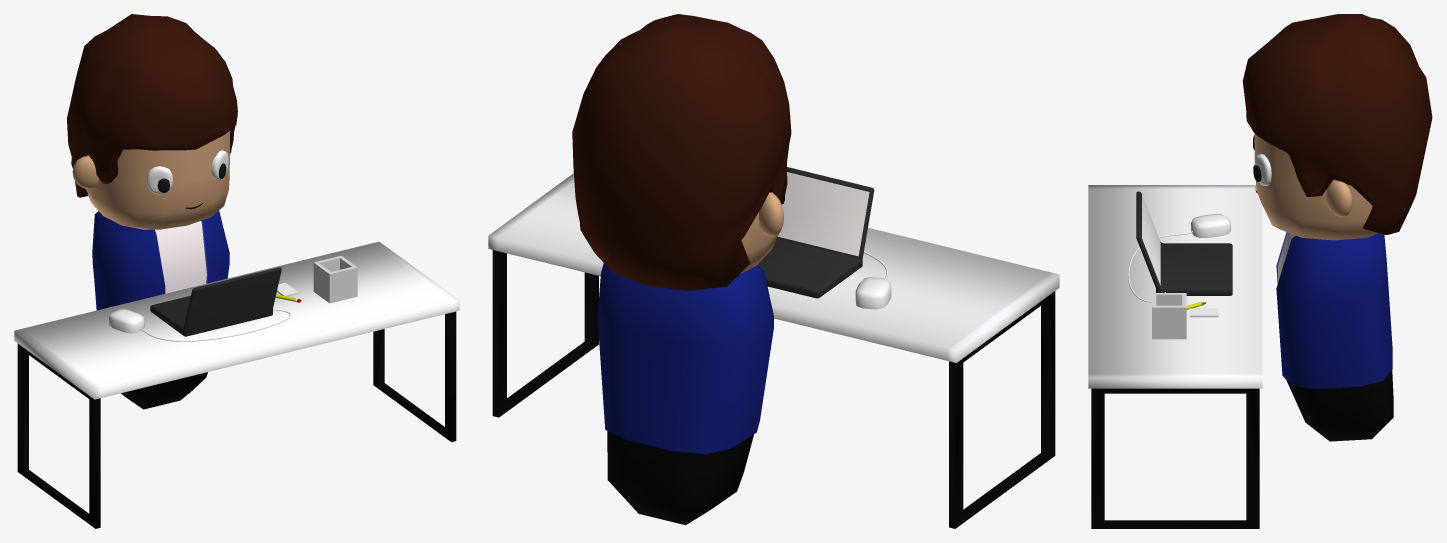
The model's file is Guy.fbx.
3 renders of one model, left to right at view 1: azimuth 30°, elevation 25°; view 2: azimuth 150°, elevation 25°; view 3: azimuth 270°, elevation 25°, orthographic. The views are drawn at different scales.
Parts seen in each view (by area): view 1: Body, Desk, Laptop, PenHolder, Mouse; view 2: Body, Desk, Laptop, Mouse; view 3: Body, Desk, Laptop, PenHolder, Mouse.
Boxes of the visible parts, <box> form: Body: <box>67,14,237,409</box>; Desk: <box>14,241,459,528</box>; Laptop: <box>150,267,281,336</box>; PenHolder: <box>313,255,357,303</box>; Mouse: <box>109,309,144,333</box>; Body: <box>572,14,791,525</box>; Desk: <box>488,173,1059,528</box>; Laptop: <box>758,167,874,298</box>; Mouse: <box>855,277,891,309</box>; Body: <box>1242,14,1432,441</box>; Desk: <box>1088,185,1262,528</box>; Laptop: <box>1136,191,1232,295</box>; PenHolder: <box>1152,293,1186,339</box>; Mouse: <box>1191,214,1230,237</box>.
Size of the model in its own units: 373 by 371 by 282.
